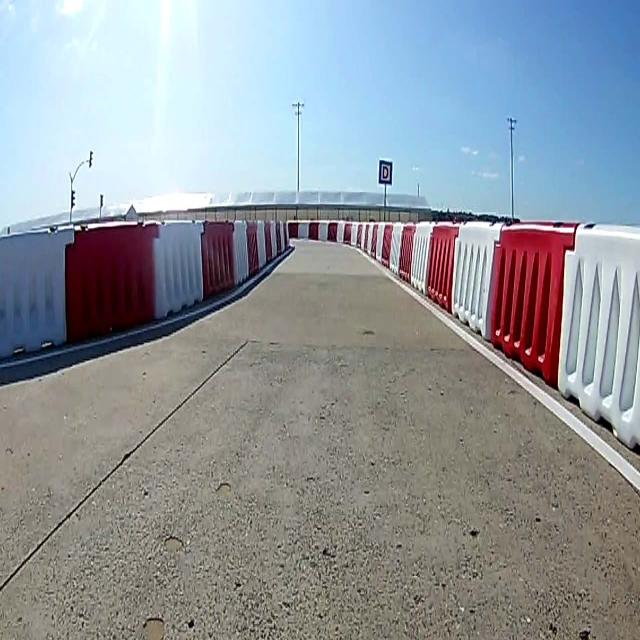durak: (379, 157, 393, 184)
